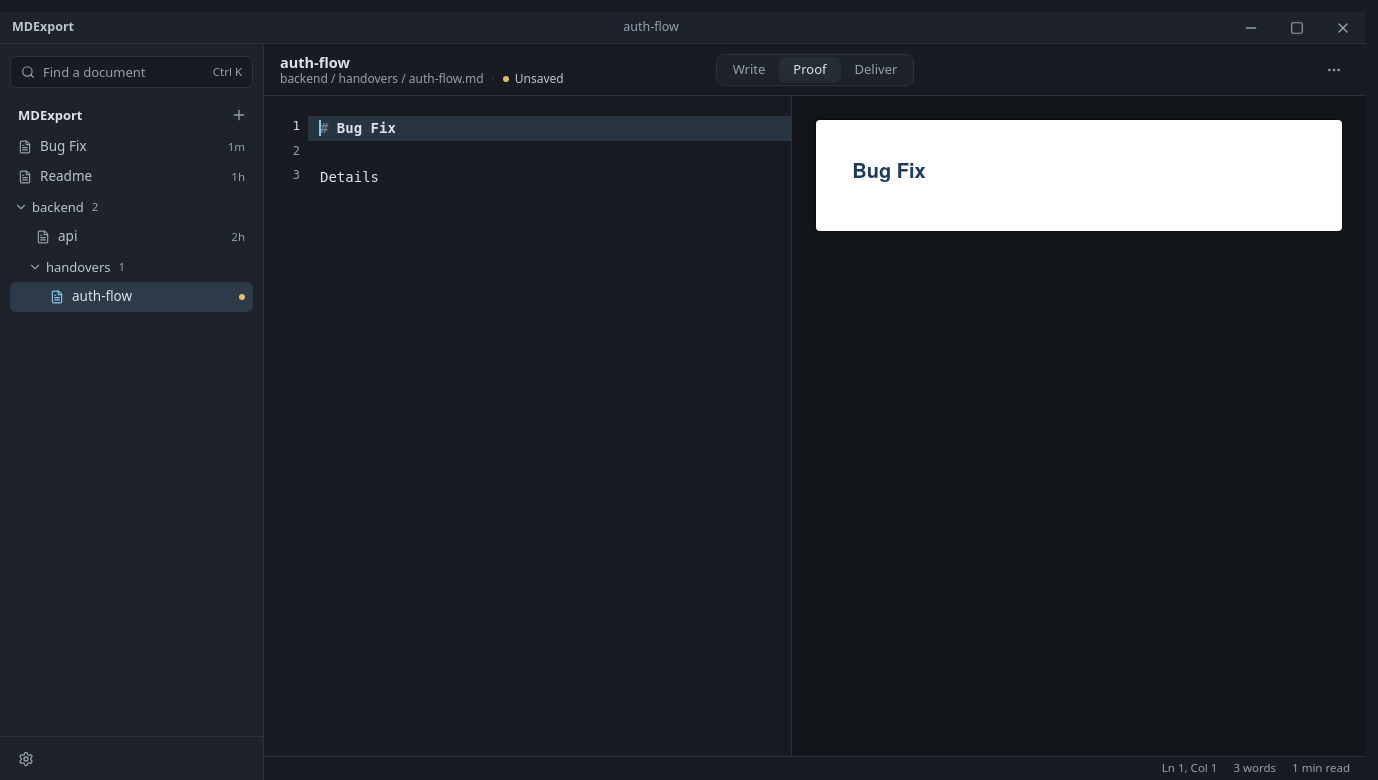
Renaming documents › F2 renames the open document and keeps its unsaved edits
Press F2
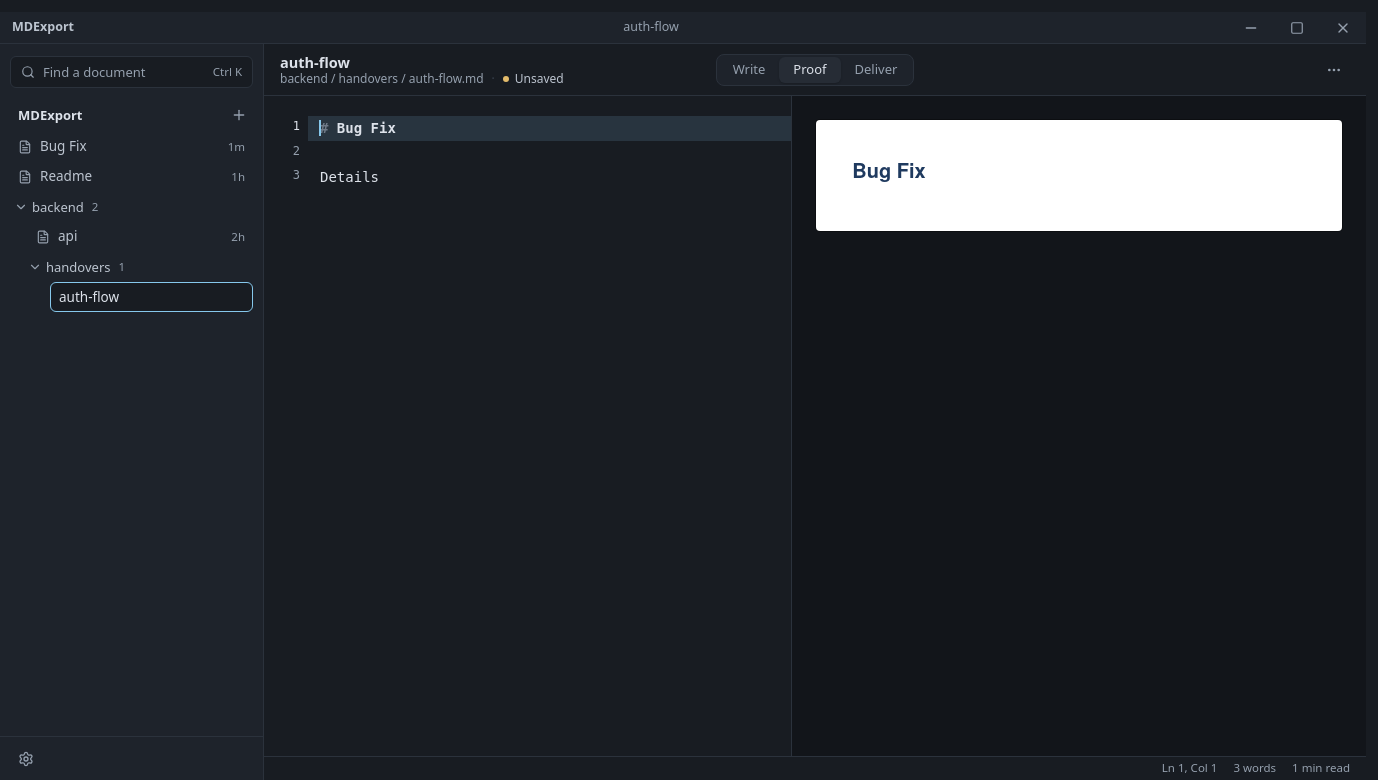
Replace the text in the field named "Document name" with "login-flow" at (152,297), box left=50, top=282, right=253, bottom=312
Then press Enter
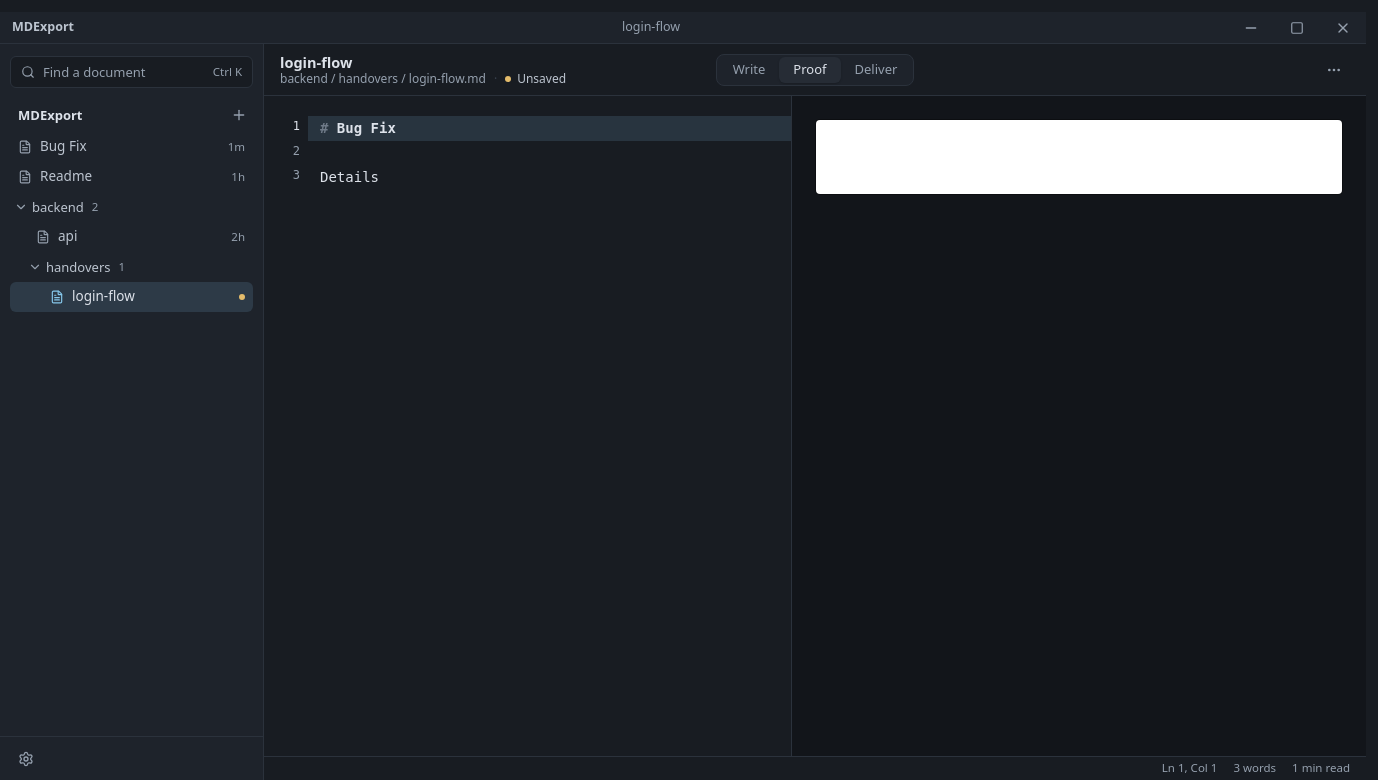
Expected: the heading "login-flow" is shown, left=280, top=52, right=352, bottom=72
Expected: the text "backend / handovers / login-flow.md" is shown, left=280, top=71, right=486, bottom=86
